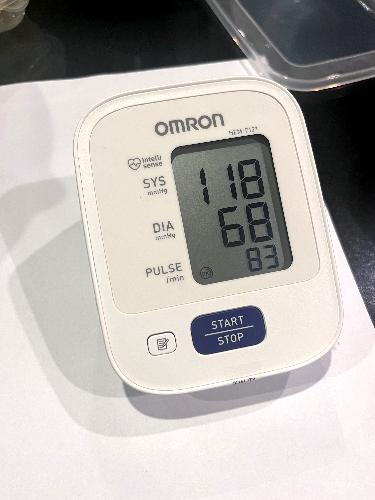bpm: (167, 127, 297, 290)
